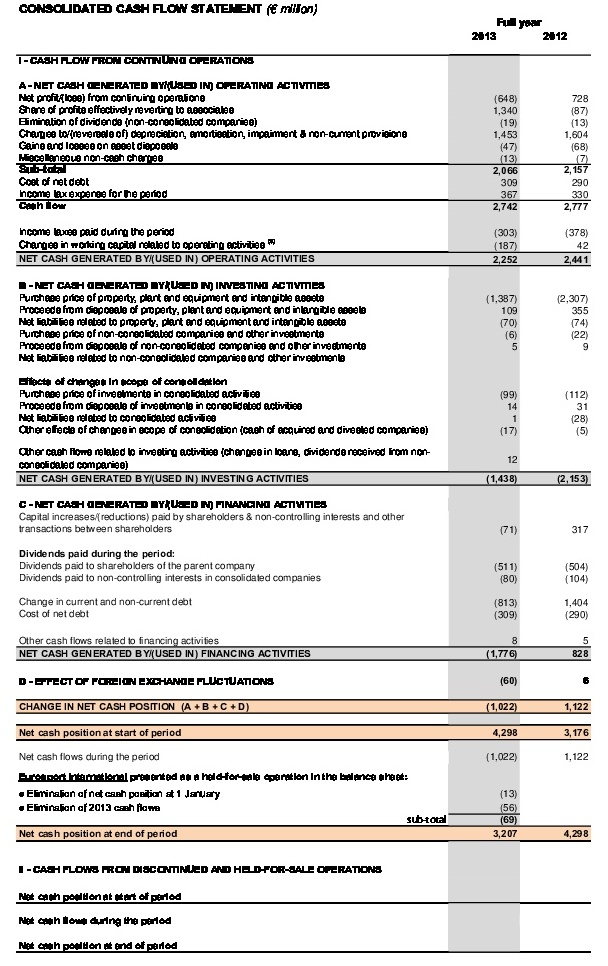table: (0, 0, 608, 966)
